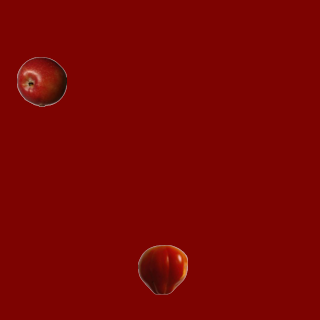Apple Braeburn: (16, 56, 66, 106)
Tomato 1: (137, 244, 187, 294)
